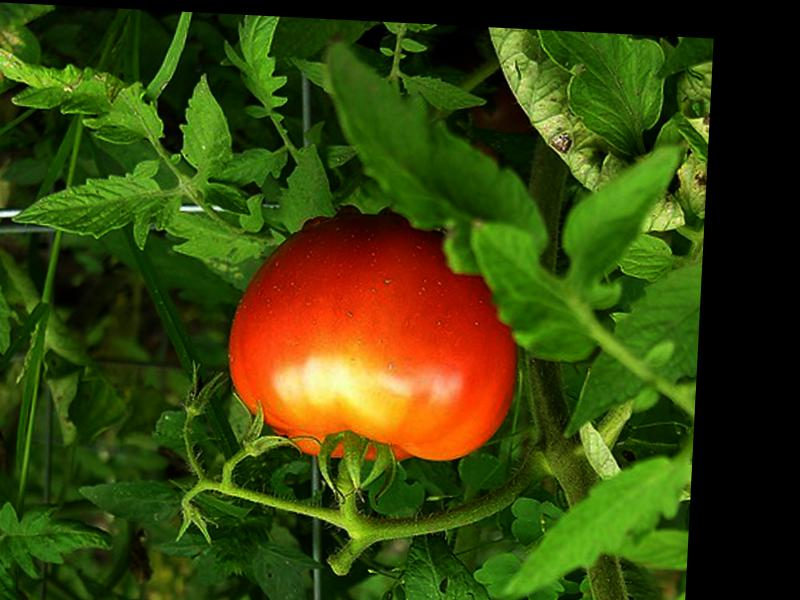Tomato: (225, 211, 522, 469)
